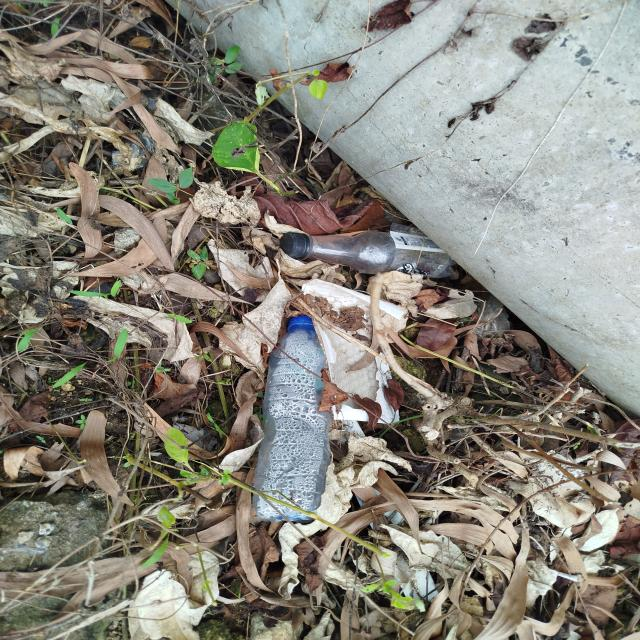plastic: (252, 306, 346, 531), (262, 219, 467, 297)
